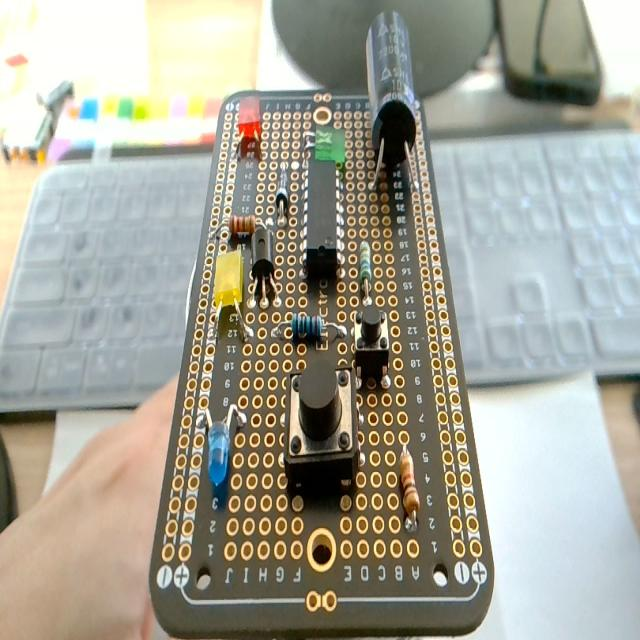Electrolytic capacitor: (364, 11, 421, 197)
IC: (304, 156, 341, 276)
diode: (276, 166, 288, 221)
led: (200, 400, 247, 488), (214, 248, 244, 310), (235, 96, 262, 159), (314, 125, 345, 166)
resistor: (398, 447, 418, 521), (290, 312, 324, 339), (359, 239, 372, 304), (230, 214, 256, 238)
switch: (283, 354, 359, 496), (353, 305, 389, 386)
transistor: (249, 224, 278, 307)
